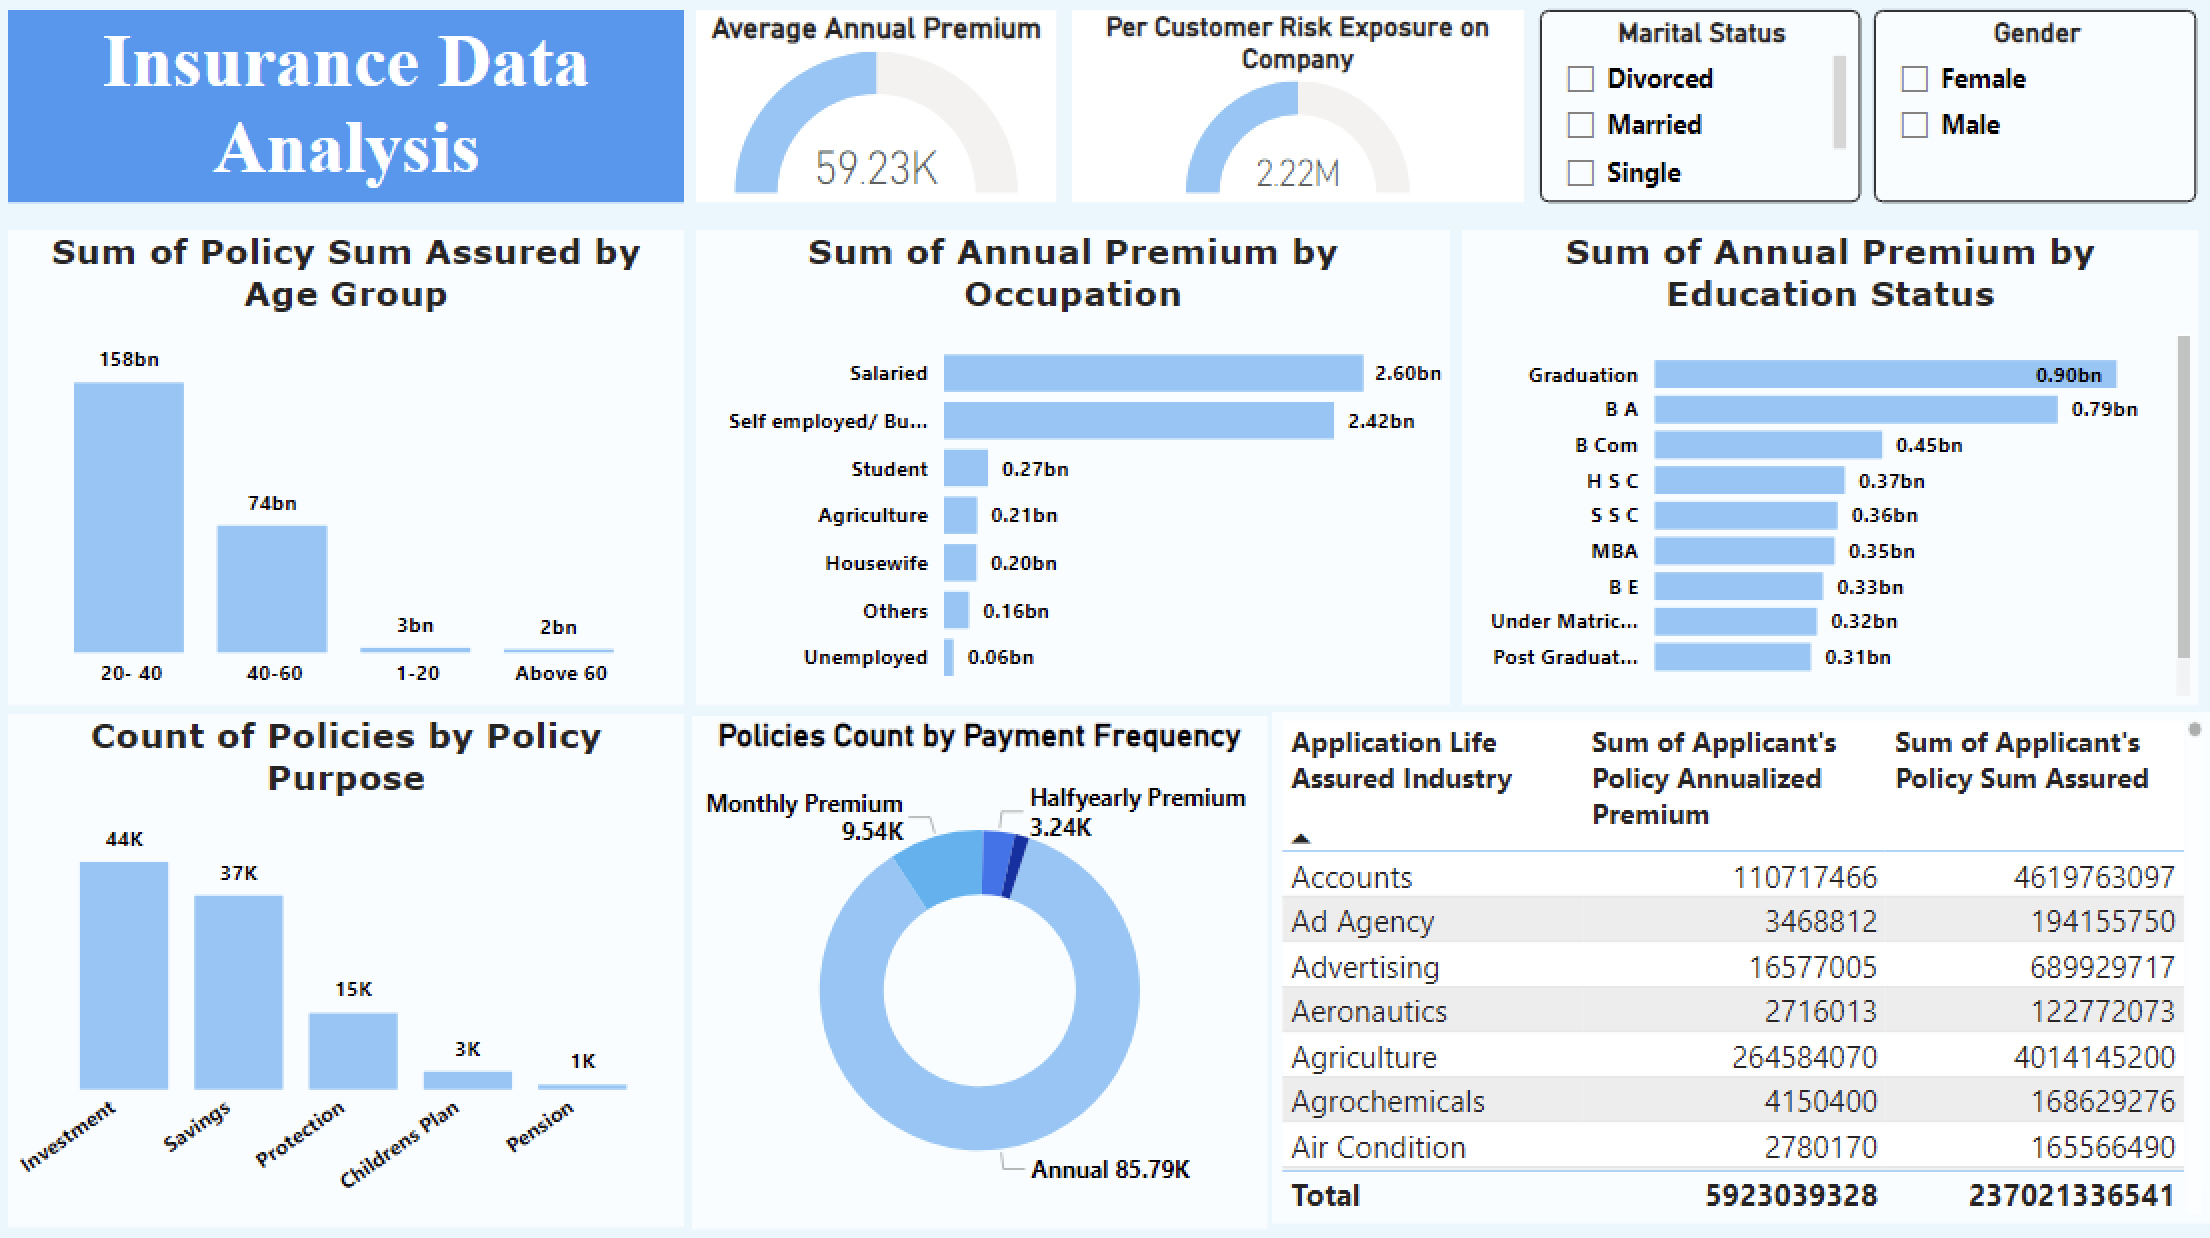

The page's visual inventory and layout, read from the dashboard file:
{"tool":"powerbi","page":{"name":"Page 2","canvas":[1280,720],"ordinal":1},"visuals":[{"type":"clusteredBarChart","title":"Sum of Annual Premium by Occupation","fields":{"Category":["Sheet1.Application  Life Assured Occupation"],"Y":["Sum(Sheet1.Applicant's Policy Annualized Premium)"]},"box":[406.3,136.9,435.4,273.8],"z":0},{"type":"donutChart","title":"Policies Count by Payment Frequency","fields":{"Y":["CountNonNull(Sheet1.Policy No.)"],"Category":["Sheet1.Applicant's Policy Premium Payment Frequency"]},"box":[403.4,417.9,332,295.6],"z":1000},{"type":"textbox","box":[9.2,10.4,390,110.8],"z":2000},{"type":"slicer","title":"Gender","fields":{"Values":["Sheet1.Application  Life Assured Gender"]},"box":[1086.3,10.2,186.4,110.7],"z":3000},{"type":"clusteredColumnChart","title":"Sum of Policy Sum Assured by Age Group","fields":{"Category":["Sheet1.Age Group"],"Y":["Sum(Sheet1.Applicant's Policy Sum Assured)"]},"box":[8.7,136.9,390.3,273.8],"z":4000},{"type":"clusteredColumnChart","title":"Count of Policies by Policy Purpose","fields":{"Y":["CountNonNull(Sheet1.Policy No.)"],"Category":["Sheet1.Applicant's Policy Product Category"]},"box":[8.7,416.5,390.3,295.6],"z":5000},{"type":"tableEx","fields":{"Values":["Sheet1.Application  Life Assured Industry","Sum(Sheet1.Applicant's Policy Annualized Premium)","Sum(Sheet1.Applicant's Policy Sum Assured)"]},"box":[738.1,415.9,541.9,295.2],"z":6000},{"type":"gauge","title":"Average Annual Premium","fields":{"Y":["Avg(Sheet1.Applicant's Policy Annualized Premium)"]},"box":[406.3,10.2,208.2,110.7],"z":7000},{"type":"gauge","title":"Per Customer Risk Exposure on Company","fields":{"Y":["Avg(Sheet1.Total Risk Exposure of HDFC Life w.r.t. Life Assured)"]},"box":[623.3,10.2,260.7,110.7],"z":8000},{"type":"slicer","title":"Marital Status","fields":{"Values":["Sheet1.Application  Life Assured Marital Status"]},"box":[892.7,10.2,184.9,110.7],"z":9000},{"type":"clusteredBarChart","title":"Sum of Annual Premium by Education Status","fields":{"Category":["Sheet1.Application  Life Assured Education"],"Y":["Sum(Sheet1.Applicant's Policy Annualized Premium)"]},"box":[847.5,136.9,425.2,273.8],"z":10000}]}

Visuals, with their boxes in screenshot pixels (x1, y1, x2, y2), scaled from the page's 1280x720 canvas onto the 2210x1238 screenshot:
"Sum of Annual Premium by Occupation" clusteredBarChart: 702/235/1453/706
"Policies Count by Payment Frequency" donutChart: 696/719/1270/1227
textbox: 16/18/689/208
"Gender" slicer: 1876/18/2197/208
"Sum of Policy Sum Assured by Age Group" clusteredColumnChart: 15/235/689/706
"Count of Policies by Policy Purpose" clusteredColumnChart: 15/716/689/1224
tableEx - Sheet1.Application  Life Assured Industry x Sum(Sheet1.Applicant's Policy Annualized Premium): 1274/715/2209/1223
"Average Annual Premium" gauge: 702/18/1061/208
"Per Customer Risk Exposure on Company" gauge: 1076/18/1526/208
"Marital Status" slicer: 1541/18/1861/208
"Sum of Annual Premium by Education Status" clusteredBarChart: 1463/235/2197/706
